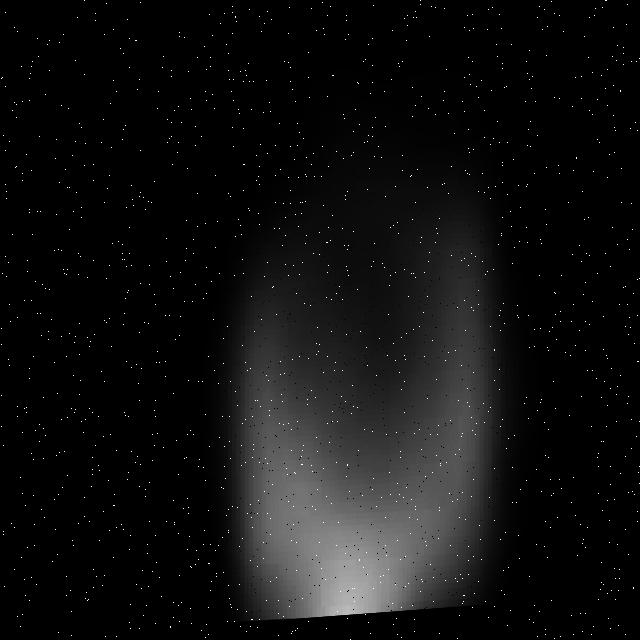person: (188, 71, 527, 630)
